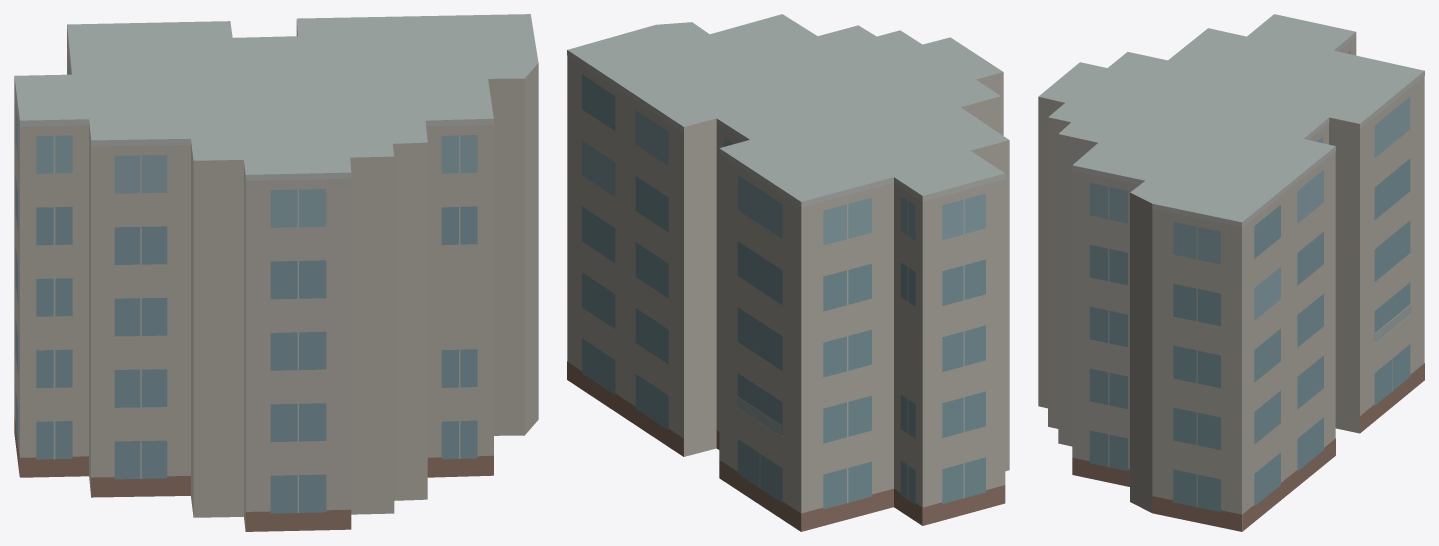
Rendered from survey-upis-32900612.glb.
3 renders of one model, left to right at view 1: azimuth 30°, elevation 25°; view 2: azimuth 150°, elevation 25°; view 3: azimuth 270°, elevation 25°, orthographic. The views are drawn at different scales.
Visible parts, largest first — view 1: survey-upis-32900612.tmp; view 2: survey-upis-32900612.tmp; view 3: survey-upis-32900612.tmp.
Boxes of the visible parts, <box> form: survey-upis-32900612.tmp: <box>14,14,538,531</box>; survey-upis-32900612.tmp: <box>567,14,1009,531</box>; survey-upis-32900612.tmp: <box>1038,14,1424,531</box>.
Size of the model in its own units: 20.75 by 14.37 by 16.27.
